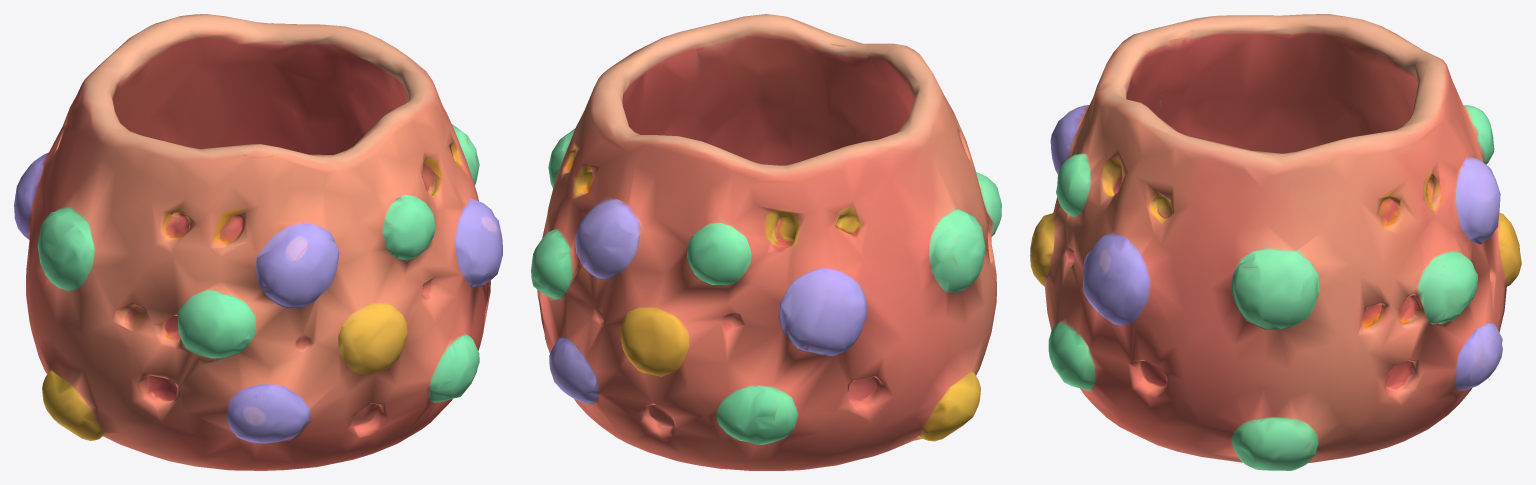
The model's file is static.glb.
The picture shows the model from 3 angles, left to right: view 1: azimuth 30°, elevation 25°; view 2: azimuth 150°, elevation 25°; view 3: azimuth 270°, elevation 25°; orthographic projection.
Parts seen in each view (by area): view 1: Mesh_0; view 2: Mesh_0; view 3: Mesh_0.
Boxes of the visible parts, bbox=[...] form: Mesh_0: bbox=[14, 14, 502, 470]; Mesh_0: bbox=[531, 14, 1001, 470]; Mesh_0: bbox=[1030, 14, 1521, 470].
Size of the model in its own units: 1.89 by 1.37 by 1.9.
Materials: 1 (1 with a texture image).
